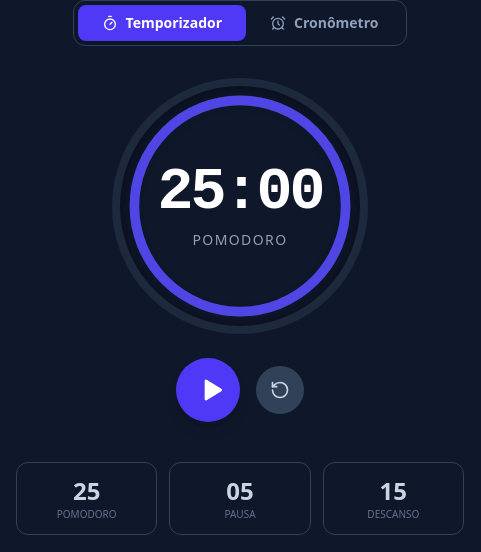
Test: TimerTool (totalDuration is stored in seconds) › starts a countdown that ends 25 minutes later (not 1.5 seconds)
What coordinates should you click on to do the following:
click the button named "Iniciar"
I would click on:
 (208, 390)
Its box is [176, 358, 240, 422].
Wait 60000 ms
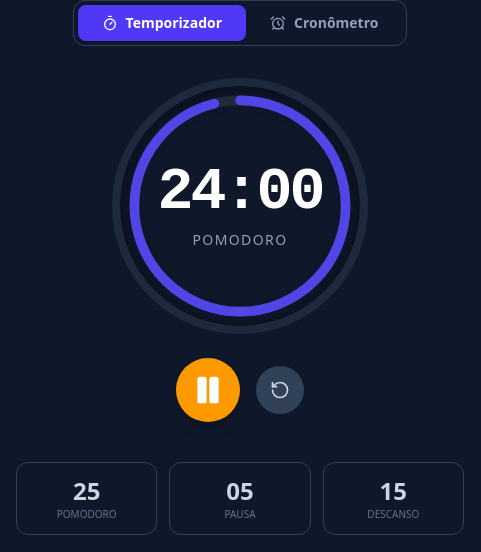
Check: the text "24:00" is shown, box [158, 162, 322, 222]
